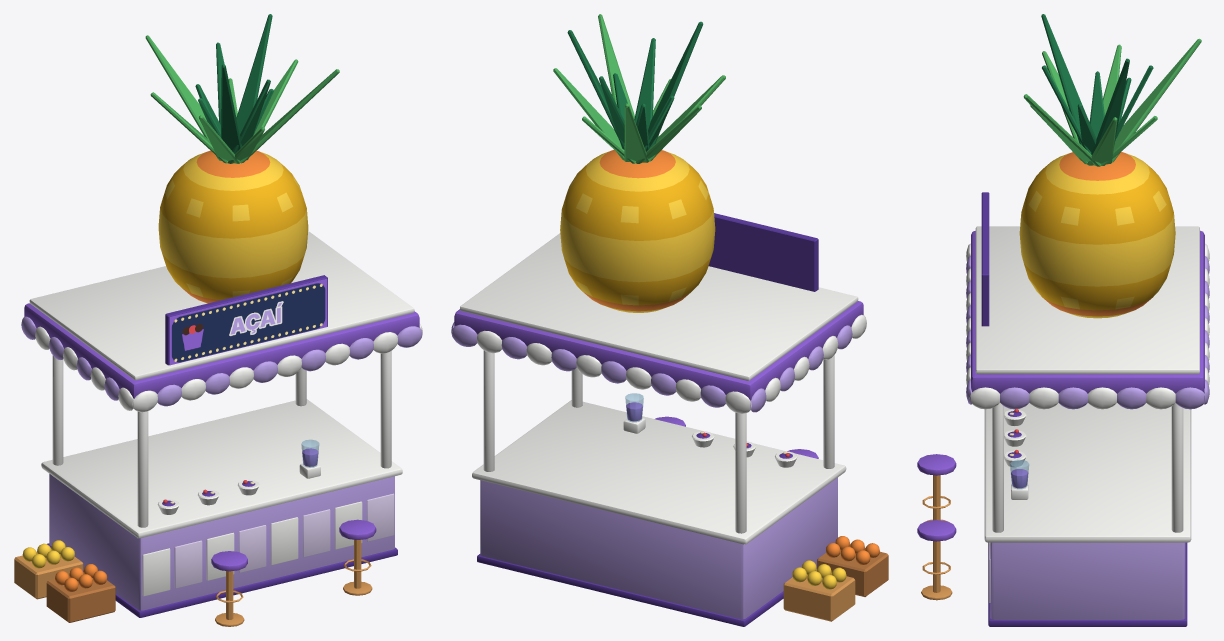
File: barraca_acai_abacaxi.glb
The picture shows the model from 3 angles, left to right: view 1: azimuth 30°, elevation 25°; view 2: azimuth 150°, elevation 25°; view 3: azimuth 270°, elevation 25°; orthographic projection. The views are drawn at different scales.
Visible parts, largest first — view 1: barraca_acai_abacaxi; view 2: barraca_acai_abacaxi; view 3: barraca_acai_abacaxi.
Part boxes in pixels (left/top/right/bottom): barraca_acai_abacaxi: left=14, top=14, right=422, bottom=626; barraca_acai_abacaxi: left=451, top=14, right=888, bottom=626; barraca_acai_abacaxi: left=917, top=14, right=1209, bottom=626.
Bounding box in the file's own units: 4.2 × 6.07 × 3.
Materials: 4 (2 with a texture image).
